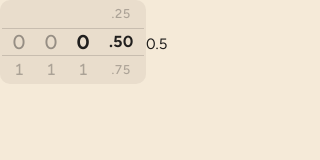
Test case: DigitScrollPicker › keeps the fraction while the whole-number wheels move
(page scrolled)
Click the 1st number field labelled "0 1 2 3 4 5 6 7 8 9" at (19, 54), box x1=13 y1=30 x2=25 y2=79
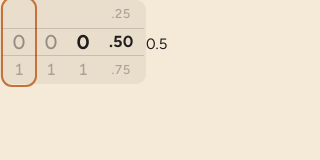
Type keys "2"
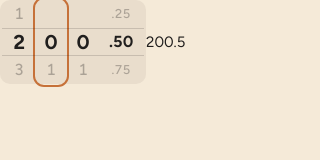
Now the text with test id "value" reads "200.5", box x1=146 y1=33 x2=185 y2=51
